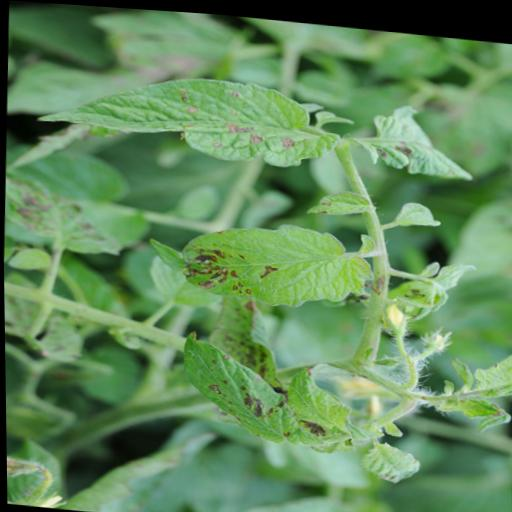Bacterial Spot: (20, 55, 329, 170), (145, 205, 373, 313), (168, 326, 360, 454)
